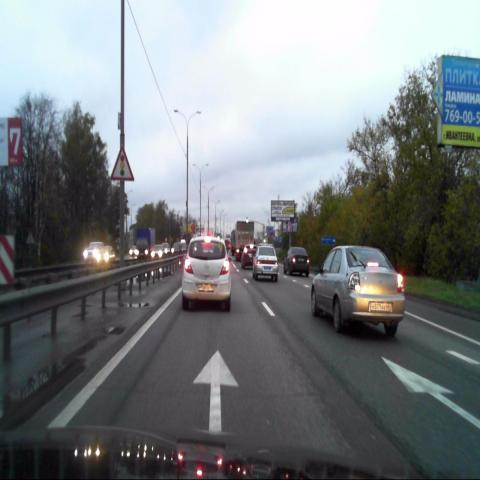1_8: (111, 144, 135, 181)
